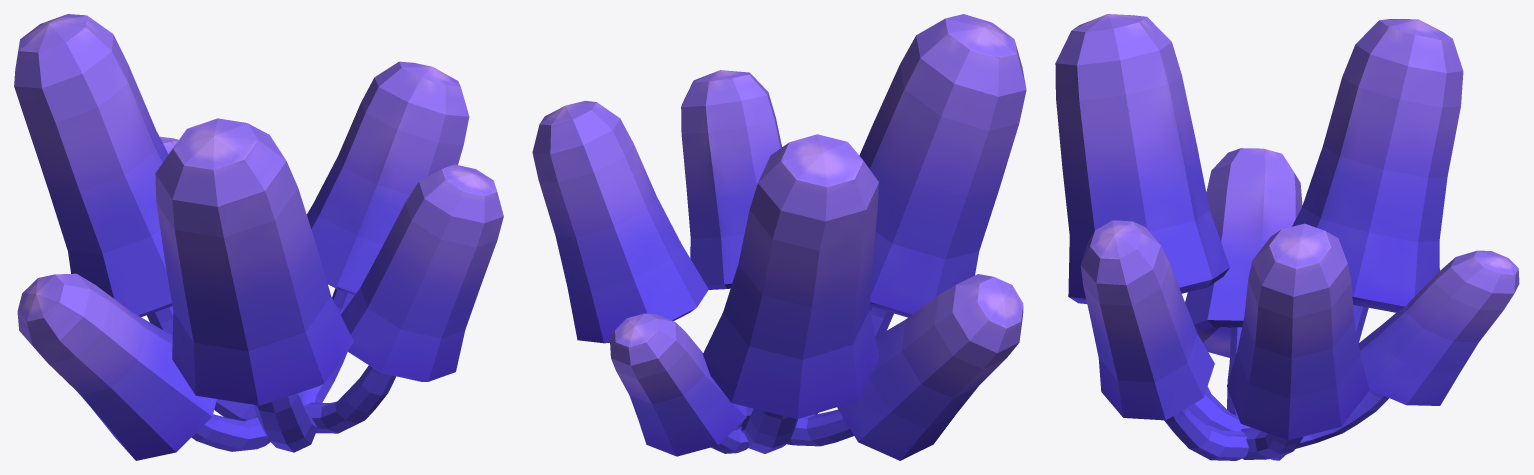
The model's file is long_mushroom_cluster_01.fbx.
The picture shows the model from 3 angles, left to right: view 1: azimuth 30°, elevation 25°; view 2: azimuth 150°, elevation 25°; view 3: azimuth 270°, elevation 25°; orthographic projection. The views are drawn at different scales.
Visible parts, largest first — view 1: mushroom_cluster_01; view 2: mushroom_cluster_01; view 3: mushroom_cluster_01.
Part boxes in pixels (left/top/right/bottom): mushroom_cluster_01: left=14, top=14, right=503, bottom=460; mushroom_cluster_01: left=532, top=14, right=1026, bottom=460; mushroom_cluster_01: left=1055, top=14, right=1519, bottom=460.
Bounding box in the file's own units: 1.06 × 0.8766 × 0.9761.
1 material, 1 textured.
